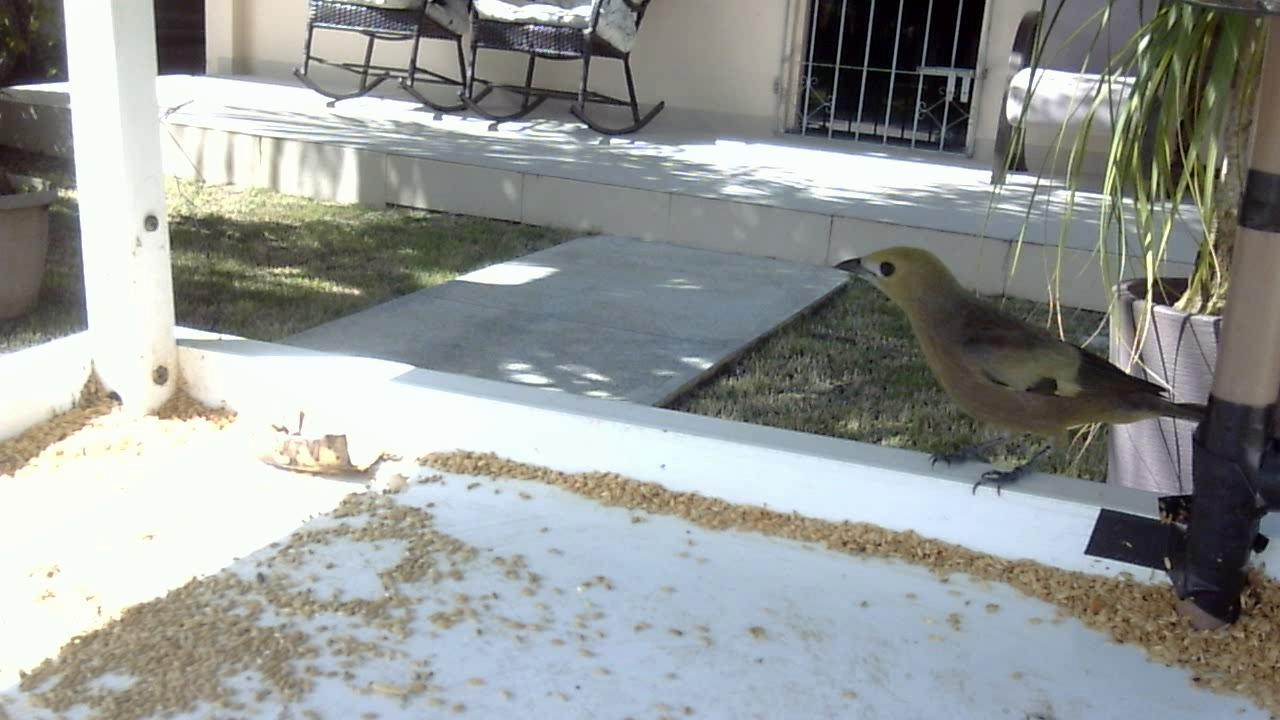sanhaco_do_coqueiro: (830, 237, 1216, 518)
